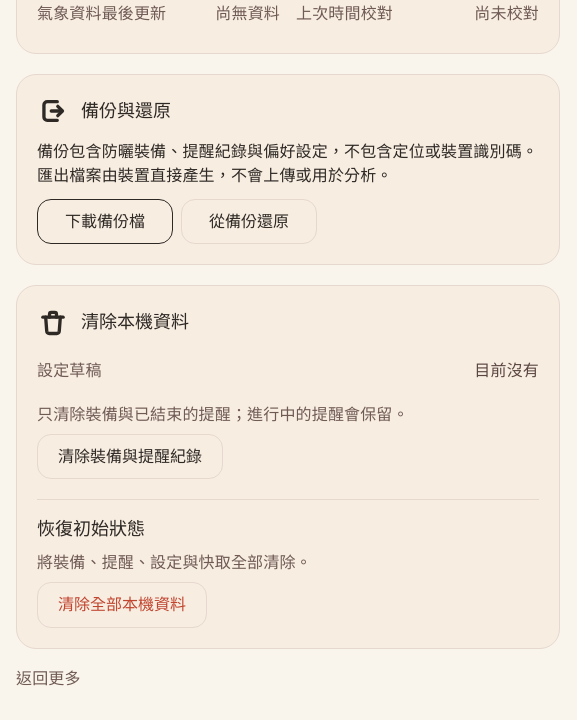
Test: 清除區的警示框 › 裝備與提醒的警示是完整的一段
(page scrolled)
Click the button "清除裝備與提醒紀錄".
click(130, 457)  # box [37,434,223,479]
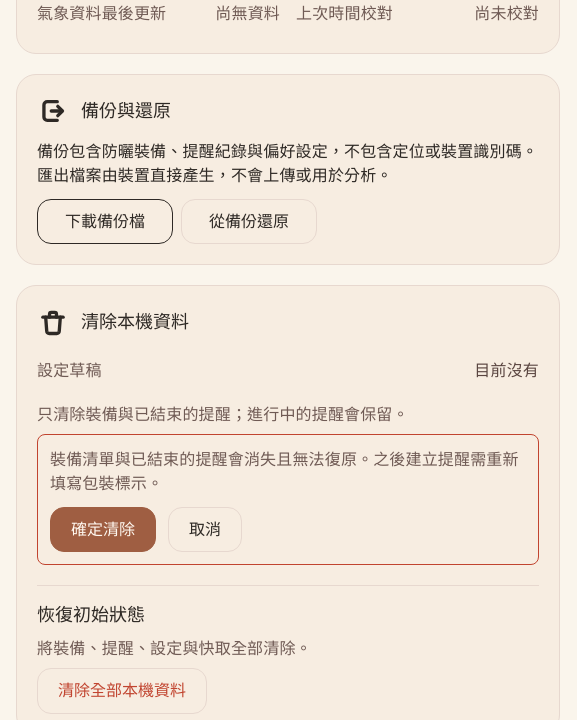
Now the element that starts with "裝備清單與已結束的提醒會消失且" shows "無法復原", box [292,449,357,469]
